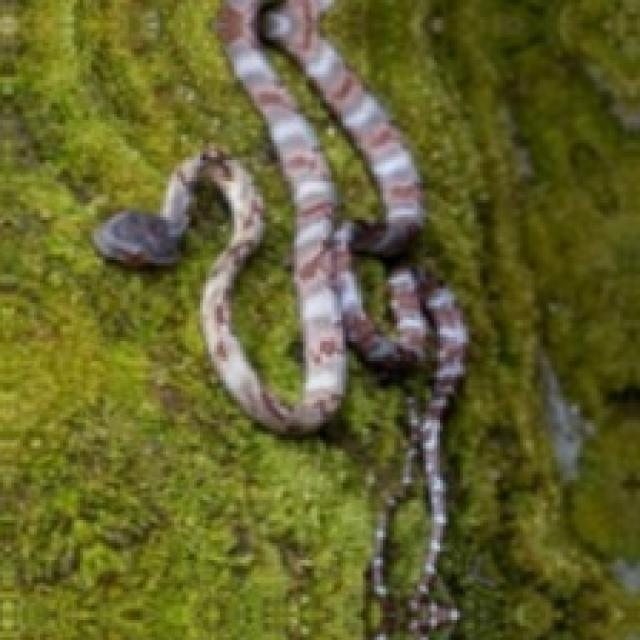dog-toothed cat snake: (94, 0, 466, 637)
